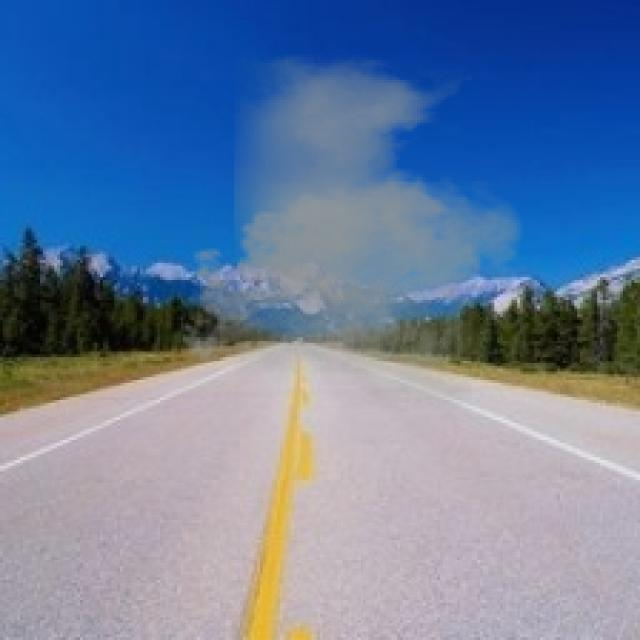Smoke: (168, 54, 538, 409)
